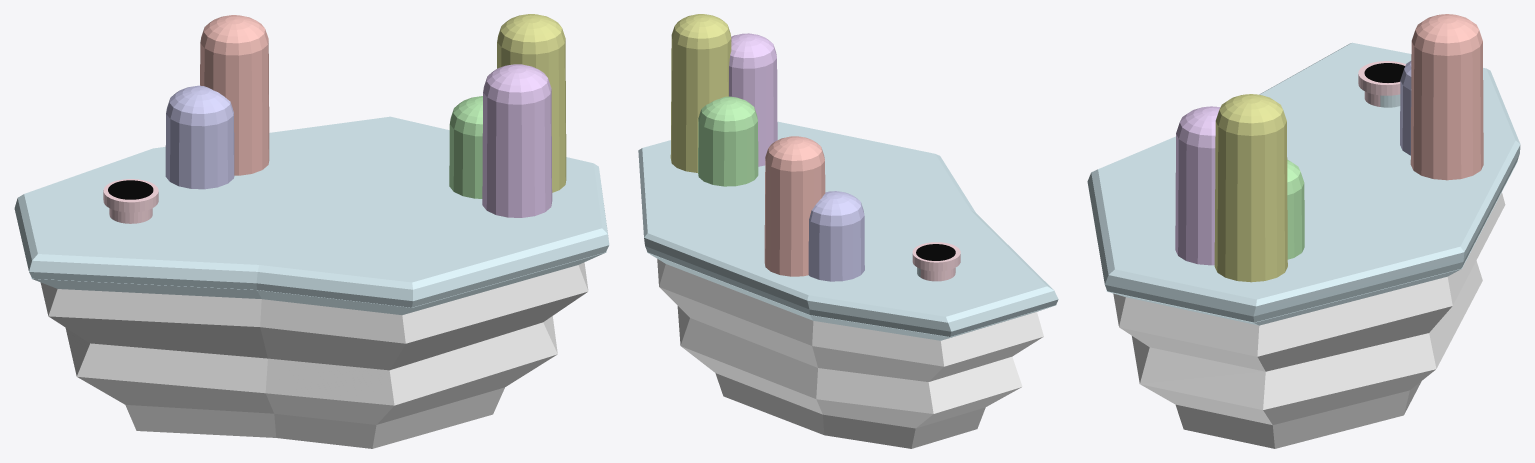
Rendered from world2.gltf.
The picture shows the model from 3 angles, left to right: view 1: azimuth 30°, elevation 25°; view 2: azimuth 150°, elevation 25°; view 3: azimuth 270°, elevation 25°; orthographic projection. The views are drawn at different scales.
Parts seen in each view (by area): view 1: Cube.002, Sphere 4.001, Sphere.002, Sphere.001, Sphere 5.001, Sphere 2.002, Cylinder, Cylinder.001; view 2: Cube.002, Sphere.002, Sphere 5.001, Sphere 2.002, Sphere.001, Sphere 4.001, Cylinder, Cylinder.001; view 3: Cube.002, Sphere 5.001, Sphere.002, Sphere 4.001, Sphere 2.002, Sphere.001, Cylinder, Cylinder.001.
Part boxes in pixels (<box>): Cube.002: <box>14,116,609,448</box>; Sphere 4.001: <box>482,64,552,217</box>; Sphere.002: <box>200,15,269,175</box>; Sphere.001: <box>165,85,234,189</box>; Sphere 5.001: <box>497,14,566,192</box>; Sphere 2.002: <box>449,96,482,198</box>; Cylinder: <box>103,179,158,212</box>; Cylinder.001: <box>108,180,153,199</box>; Cube.002: <box>638,121,1058,448</box>; Sphere.002: <box>764,136,825,276</box>; Sphere 5.001: <box>670,14,731,172</box>; Sphere 2.002: <box>698,96,758,186</box>; Sphere.001: <box>808,191,864,281</box>; Sphere 4.001: <box>729,33,777,166</box>; Cylinder: <box>912,242,960,271</box>; Cylinder.001: <box>916,244,955,260</box>; Cube.002: <box>1087,42,1520,448</box>; Sphere 5.001: <box>1214,94,1287,282</box>; Sphere.002: <box>1410,14,1483,180</box>; Sphere 4.001: <box>1175,106,1220,265</box>; Sphere 2.002: <box>1287,159,1304,259</box>; Sphere.001: <box>1400,61,1411,155</box>; Cylinder: <box>1358,61,1405,95</box>; Cylinder.001: <box>1364,63,1404,82</box>.
Size of the model in its own units: 13.73 by 8.85 by 9.48.
